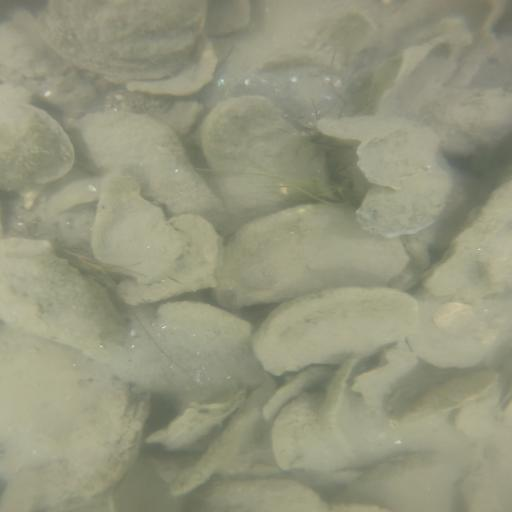Oyster-Closed: (217, 204, 406, 305), (198, 95, 345, 216), (252, 288, 423, 381), (80, 107, 224, 217), (271, 395, 468, 474), (37, 1, 208, 80), (2, 238, 111, 351), (424, 180, 512, 300), (353, 161, 452, 241), (187, 472, 332, 512), (1, 104, 66, 193), (399, 370, 501, 424)
